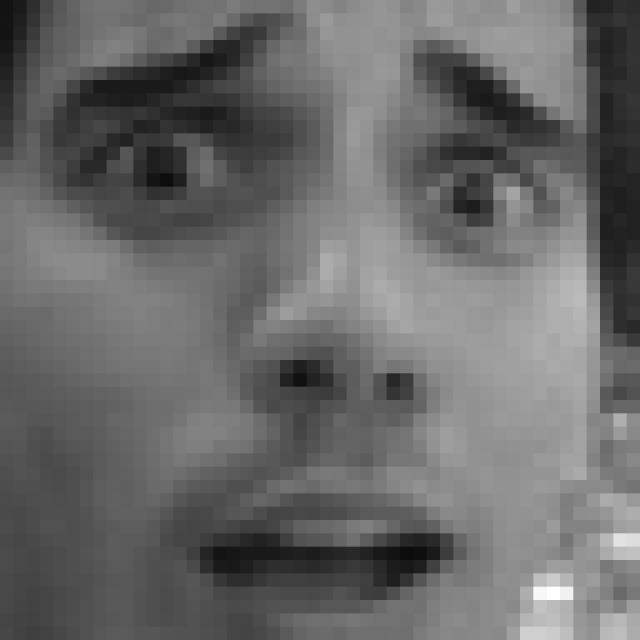fear: (54, 0, 576, 640)
